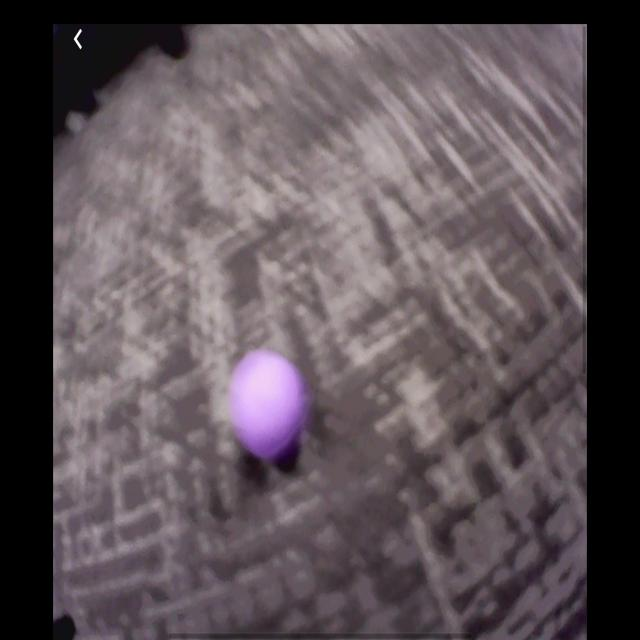ball: (231, 351, 304, 458)
